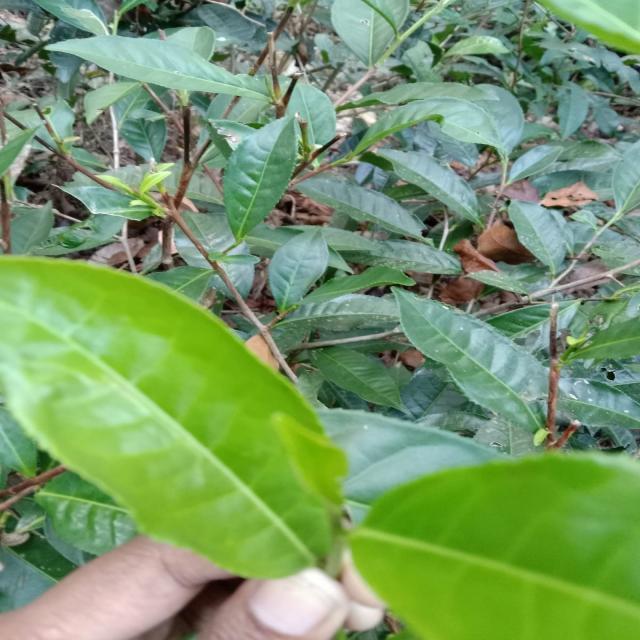Category C(4-7 days): (0, 249, 361, 592)
